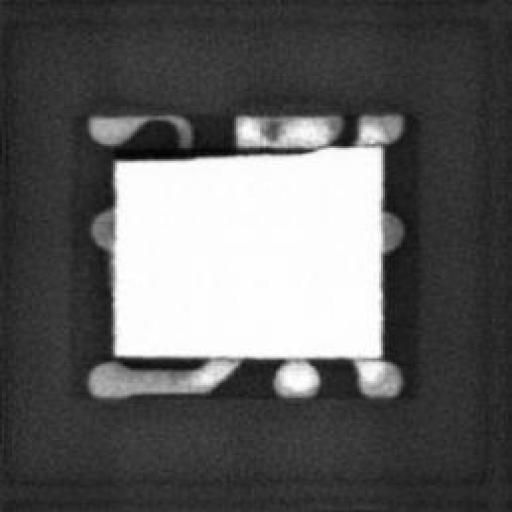DIE_BROKEN: (109, 142, 322, 163)
